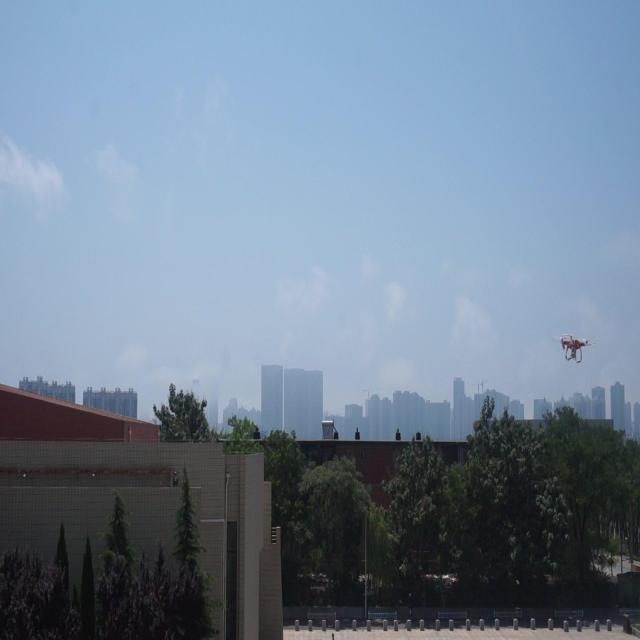drone: (554, 329, 595, 367)
